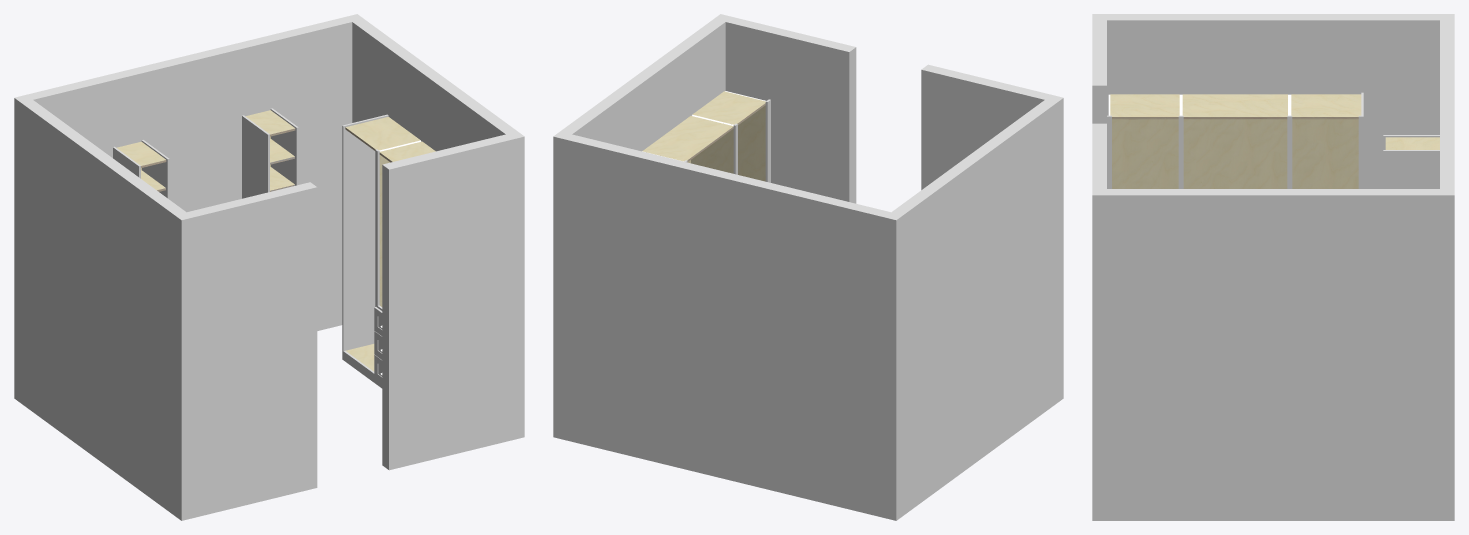
File: Closet.dae
3 renders of one model, left to right at view 1: azimuth 30°, elevation 25°; view 2: azimuth 150°, elevation 25°; view 3: azimuth 270°, elevation 25°, orthographic. The views are drawn at different scales.
Parts seen in each view (by area): view 1: N_WALL-Sh7a2978f0_Wall_Wall_Room_2a, N_WALL-Sh7a2979e0_Wall_Wall_Room_1077a, N_WALL-Sh7a298070_Wall_Wall_Room_1a, N_WALL-Sh7a298250_Wall_Wall_Room_274a, N_WALL-Sh7a298520_Wall_Wall_Room_805a, N_LF-Sh8df9be60_Tall_Cabinet_Assembly_1061a, N_LF-Sh8e6d34e0_Tall_Cabinet_Assembly_543a, N_TO-Sh8dfa4880_Tall_Cabinet_Assembly_1071a, N_LS-Sh8df936b0_Tall_Cabinet_Assembly_1076a, N_RF-Sh7a3a6ec0_Tall_Cabinet_Assembly_659a, N_TO-Sh7a3a28e0_Tall_Cabinet_Assembly_513a, N_TO-Sh7a3a1cb0_Tall_Cabinet_Assembly_778a (+3 smaller); view 2: N_WALL-Sh7a298250_Wall_Wall_Room_274a, N_WALL-Sh7a2978f0_Wall_Wall_Room_2a, N_WALL-Sh7a2979e0_Wall_Wall_Room_1077a, N_WALL-Sh7a298520_Wall_Wall_Room_805a, N_WALL-Sh7a298070_Wall_Wall_Room_1a, N_TO-Sh8e6a4e40_Tall_Cabinet_Assembly_854a, N_RU-Sh8df98580_Tall_Cabinet_Assembly_812a, N_TO-Sh8df96c50_Tall_Cabinet_Assembly_818a, N_RU-Sh8e6b6760_Tall_Cabinet_Assembly_839a; view 3: N_WALL-Sh7a298520_Wall_Wall_Room_805a, N_WALL-Sh7a2978f0_Wall_Wall_Room_2a, N_UB-Sh8e6d2090_Tall_Cabinet_Assembly_67a, N_UB-Sh8e6b84a0_Tall_Cabinet_Assembly_13a, N_UB-Sh8e6a9420_Tall_Cabinet_Assembly_31a, N_WALL-Sh7a298250_Wall_Wall_Room_274a, N_TO-Sh8e6d4fb0_Tall_Cabinet_Assembly_70a, N_RF-Sh8e6d0350_Tall_Cabinet_Assembly_394a, N_TO-Sh8e6b8cc0_Tall_Cabinet_Assembly_16a, N_WALL-Sh7a298070_Wall_Wall_Room_1a, N_TO-Sh8e6a7fd0_Tall_Cabinet_Assembly_34a, N_WALL-Sh7a2979e0_Wall_Wall_Room_1077a (+2 smaller).
Boxes of the visible parts, bbox=[...] form: N_WALL-Sh7a2978f0_Wall_Wall_Room_2a: bbox=[14, 97, 186, 520]; N_WALL-Sh7a2979e0_Wall_Wall_Room_1077a: bbox=[382, 134, 524, 470]; N_WALL-Sh7a298070_Wall_Wall_Room_1a: bbox=[181, 182, 317, 520]; N_WALL-Sh7a298250_Wall_Wall_Room_274a: bbox=[15, 14, 356, 330]; N_WALL-Sh7a298520_Wall_Wall_Room_805a: bbox=[352, 14, 524, 151]; N_LF-Sh8df9be60_Tall_Cabinet_Assembly_1061a: bbox=[344, 114, 388, 350]; N_LF-Sh8e6d34e0_Tall_Cabinet_Assembly_543a: bbox=[242, 115, 268, 198]; N_TO-Sh8dfa4880_Tall_Cabinet_Assembly_1071a: bbox=[345, 117, 420, 150]; N_LS-Sh8df936b0_Tall_Cabinet_Assembly_1076a: bbox=[342, 125, 345, 359]; N_RF-Sh7a3a6ec0_Tall_Cabinet_Assembly_659a: bbox=[270, 108, 296, 185]; N_TO-Sh7a3a28e0_Tall_Cabinet_Assembly_513a: bbox=[116, 141, 165, 165]; N_TO-Sh7a3a1cb0_Tall_Cabinet_Assembly_778a: bbox=[246, 110, 294, 134]; N_WALL-Sh7a298250_Wall_Wall_Room_274a: bbox=[553, 134, 896, 520]; N_WALL-Sh7a2978f0_Wall_Wall_Room_2a: bbox=[891, 97, 1063, 520]; N_WALL-Sh7a2979e0_Wall_Wall_Room_1077a: bbox=[721, 14, 856, 203]; N_WALL-Sh7a298520_Wall_Wall_Room_805a: bbox=[553, 14, 725, 151]; N_WALL-Sh7a298070_Wall_Wall_Room_1a: bbox=[921, 64, 1062, 189]; N_TO-Sh8e6a4e40_Tall_Cabinet_Assembly_854a: bbox=[642, 116, 733, 161]; N_RU-Sh8df98580_Tall_Cabinet_Assembly_812a: bbox=[738, 105, 765, 181]; N_TO-Sh8df96c50_Tall_Cabinet_Assembly_818a: bbox=[692, 91, 765, 124]; N_RU-Sh8e6b6760_Tall_Cabinet_Assembly_839a: bbox=[691, 129, 733, 173]; N_WALL-Sh7a298520_Wall_Wall_Room_805a: bbox=[1092, 189, 1454, 520]; N_WALL-Sh7a2978f0_Wall_Wall_Room_2a: bbox=[1093, 14, 1453, 188]; N_UB-Sh8e6d2090_Tall_Cabinet_Assembly_67a: bbox=[1183, 119, 1287, 188]; N_UB-Sh8e6b84a0_Tall_Cabinet_Assembly_13a: bbox=[1292, 119, 1358, 188]; N_UB-Sh8e6a9420_Tall_Cabinet_Assembly_31a: bbox=[1112, 119, 1178, 188]; N_WALL-Sh7a298250_Wall_Wall_Room_274a: bbox=[1440, 14, 1454, 194]; N_TO-Sh8e6d4fb0_Tall_Cabinet_Assembly_70a: bbox=[1182, 94, 1287, 116]; N_RF-Sh8e6d0350_Tall_Cabinet_Assembly_394a: bbox=[1385, 150, 1439, 188]; N_TO-Sh8e6b8cc0_Tall_Cabinet_Assembly_16a: bbox=[1291, 94, 1361, 116]; N_WALL-Sh7a298070_Wall_Wall_Room_1a: bbox=[1092, 14, 1106, 123]; N_TO-Sh8e6a7fd0_Tall_Cabinet_Assembly_34a: bbox=[1110, 94, 1179, 116]; N_WALL-Sh7a2979e0_Wall_Wall_Room_1077a: bbox=[1092, 123, 1106, 194].
Bounding box in the file's own units: 129 × 108 × 109.
